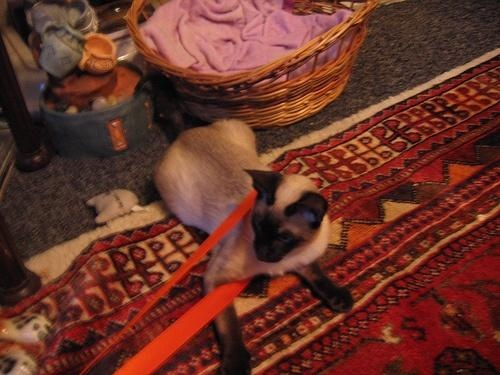cat: (153, 116, 356, 375)
